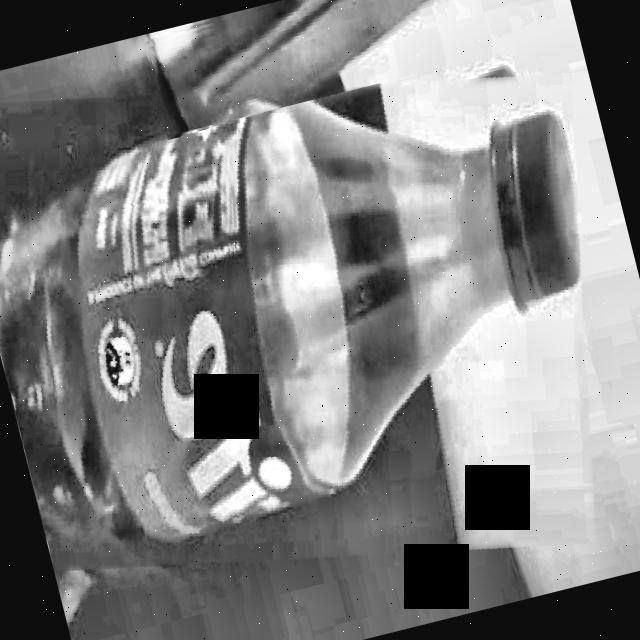bottle: (0, 89, 579, 541), (146, 0, 434, 132)
